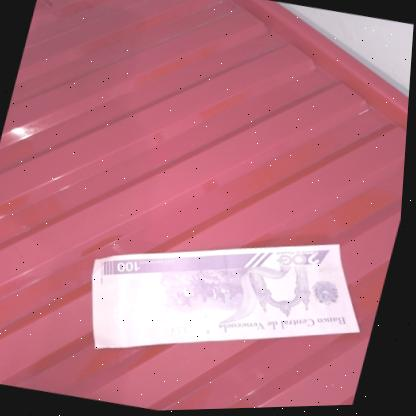vef_back: (73, 199, 387, 400)
